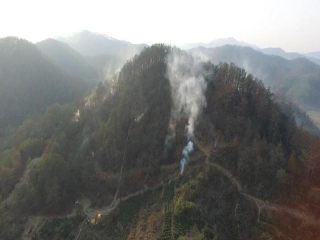smoke: (162, 48, 213, 179)
